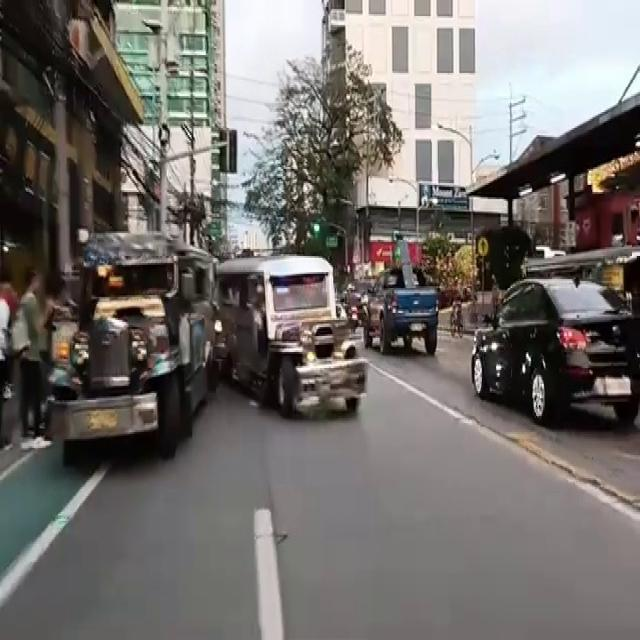car: (489, 275, 628, 421), (371, 265, 441, 363)
jeepney: (48, 242, 208, 456), (213, 256, 378, 427)
